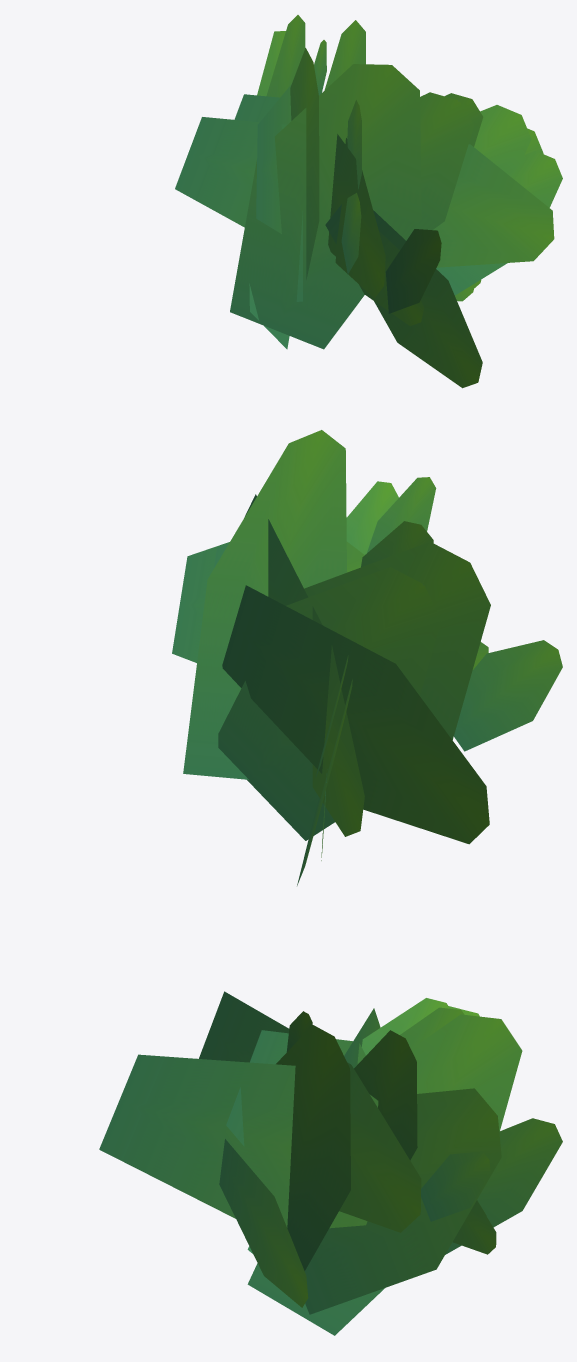
File: plant_small_1.gltf
The picture shows the model from 3 angles, top to bottom: view 1: azimuth 30°, elevation 25°; view 2: azimuth 150°, elevation 25°; view 3: azimuth 270°, elevation 25°; orthographic projection. The views are drawn at different scales.
Parts seen in each view (by area): view 1: Circle.029; view 2: Circle.029; view 3: Circle.029.
Boxes of the visible parts, left/top/right/bottom form: Circle.029: left=175, top=15, right=562, bottom=388; Circle.029: left=172, top=430, right=562, bottom=885; Circle.029: left=99, top=991, right=562, bottom=1335.
Bounding box in the file's own units: 1.34 × 1.05 × 1.36.
Materials: 1 (1 with a texture image).
